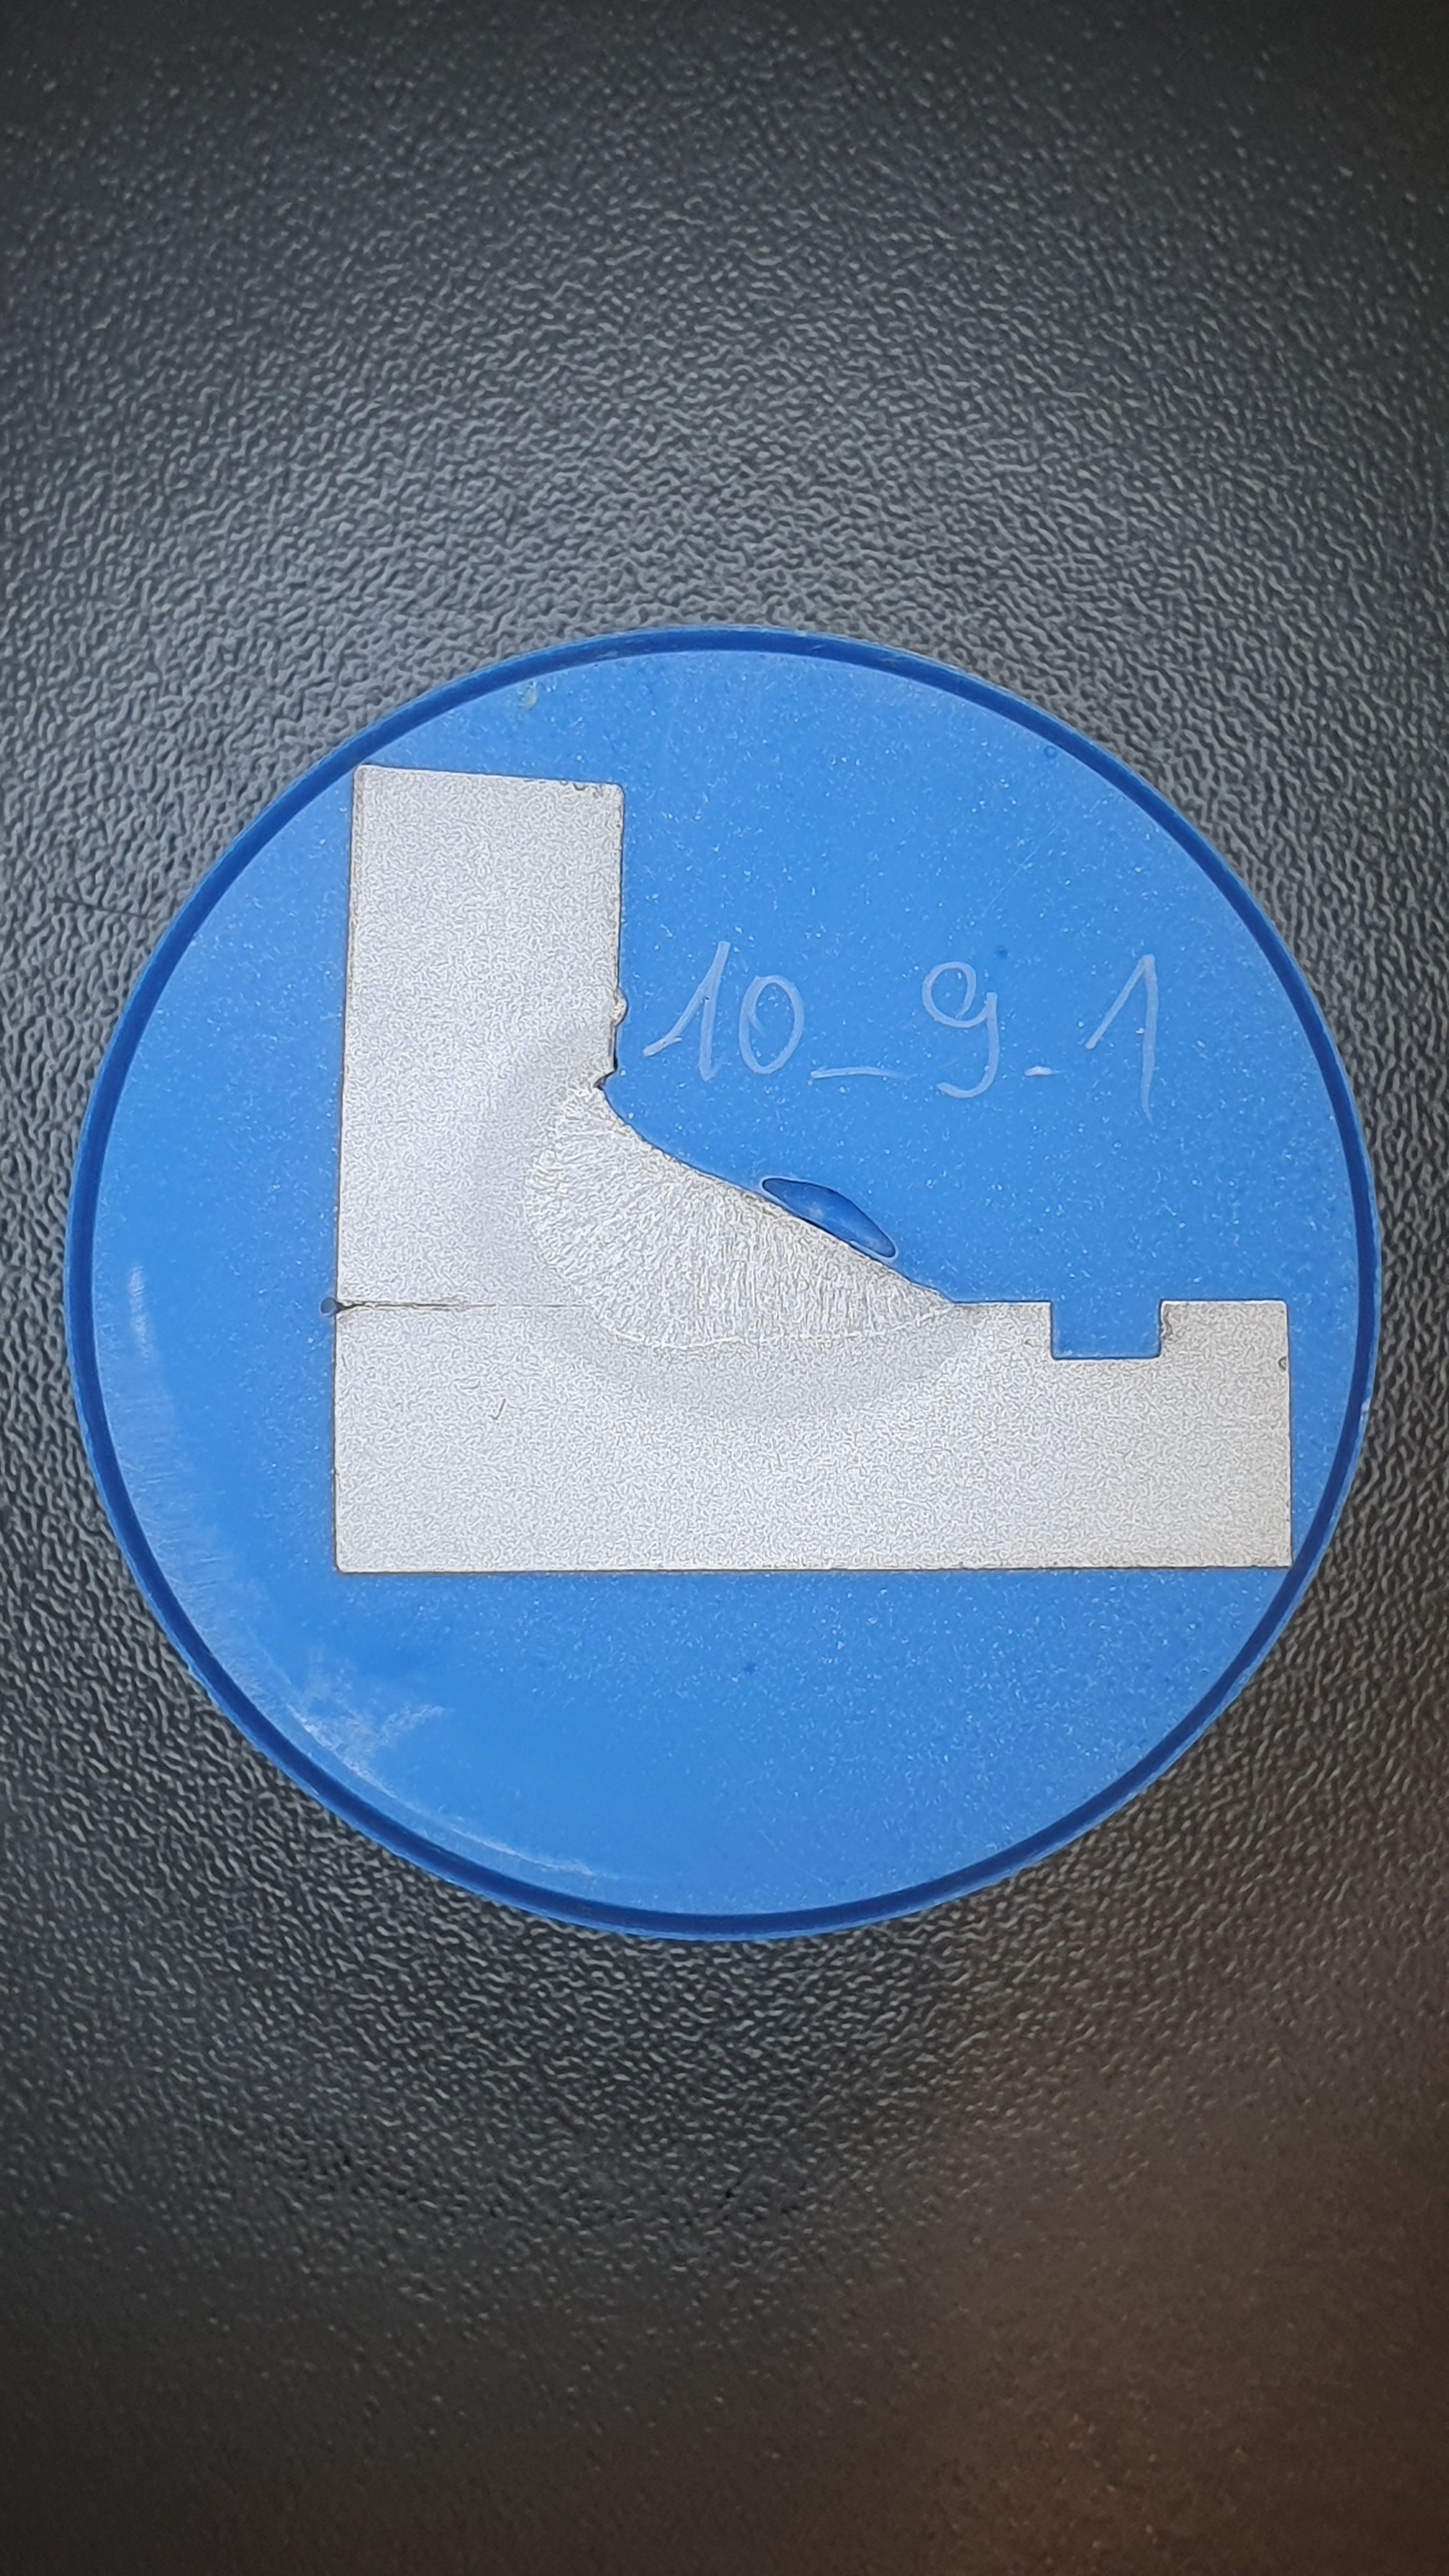Fusion: (522, 1054, 954, 1348)
Hintergrund: (94, 649, 1359, 1911)
Metall: (334, 764, 1295, 1573)
Nebenbereich: (467, 996, 987, 1422)
